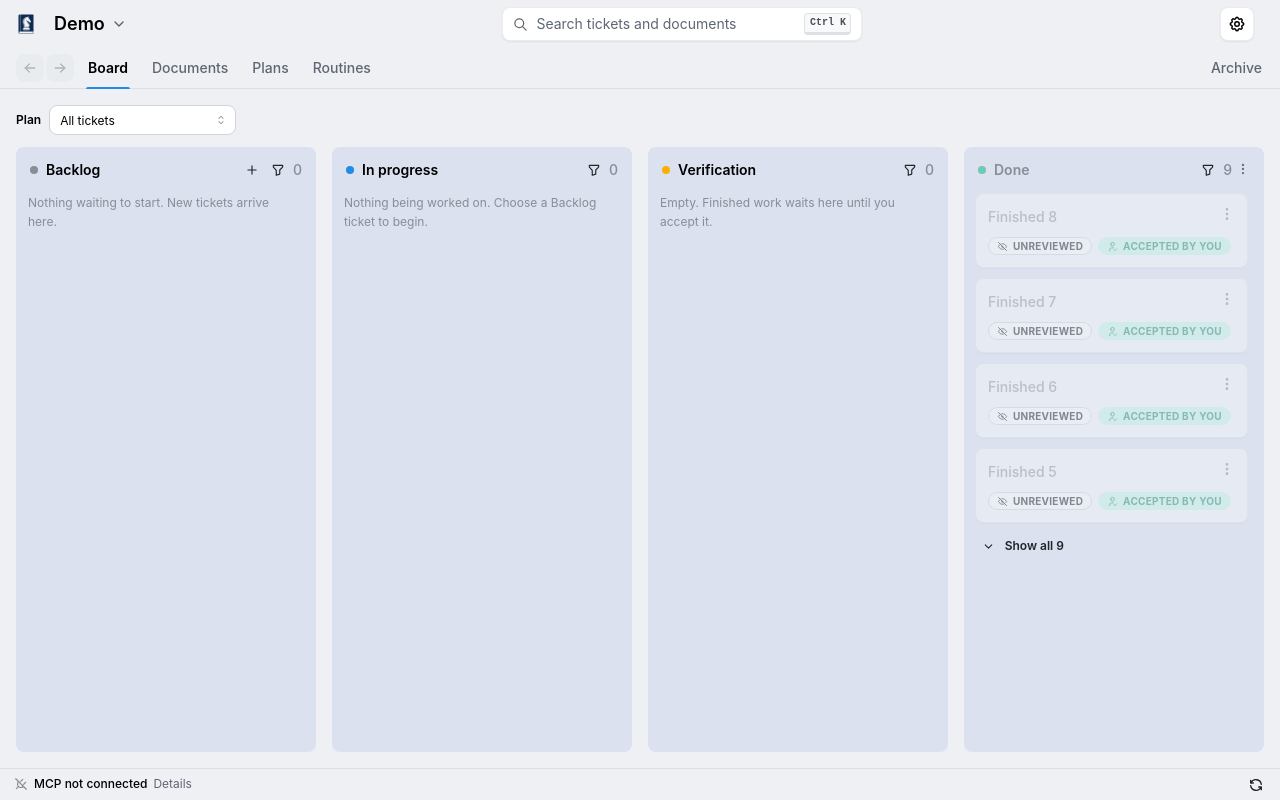
Test case: the Done column on the board › shows the total while collapsed, and reveals the rest when asked
The image size is (1280, 800).
Expected: the text "Finished 8" is shown, [988, 208, 1057, 225]
Expected: the text "Finished 0" is not shown
Click the button "Show all 9": [1034, 546] box [976, 535, 1248, 557]
(page scrolled)
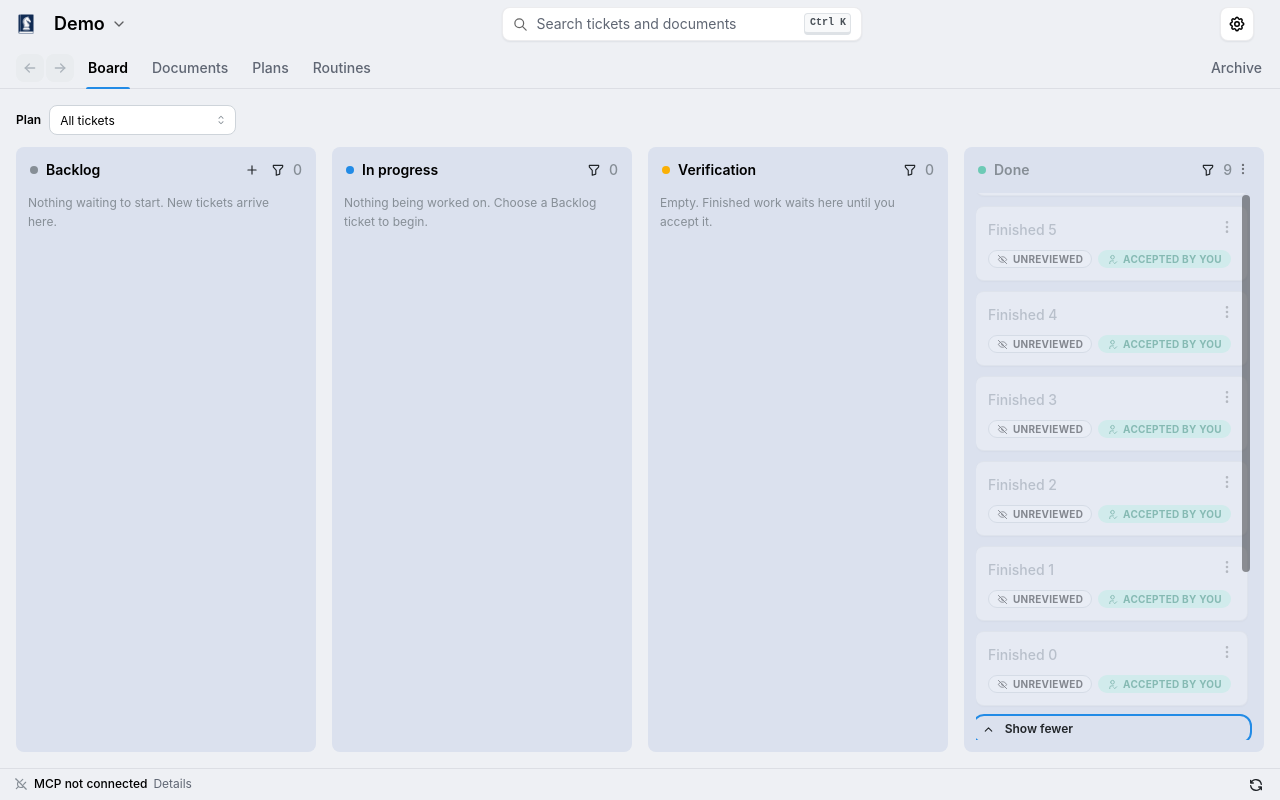
Now the text "Finished 0" is shown, box [988, 646, 1057, 663]
Click the button "Show fewer": [1039, 728] box [976, 718, 1248, 740]
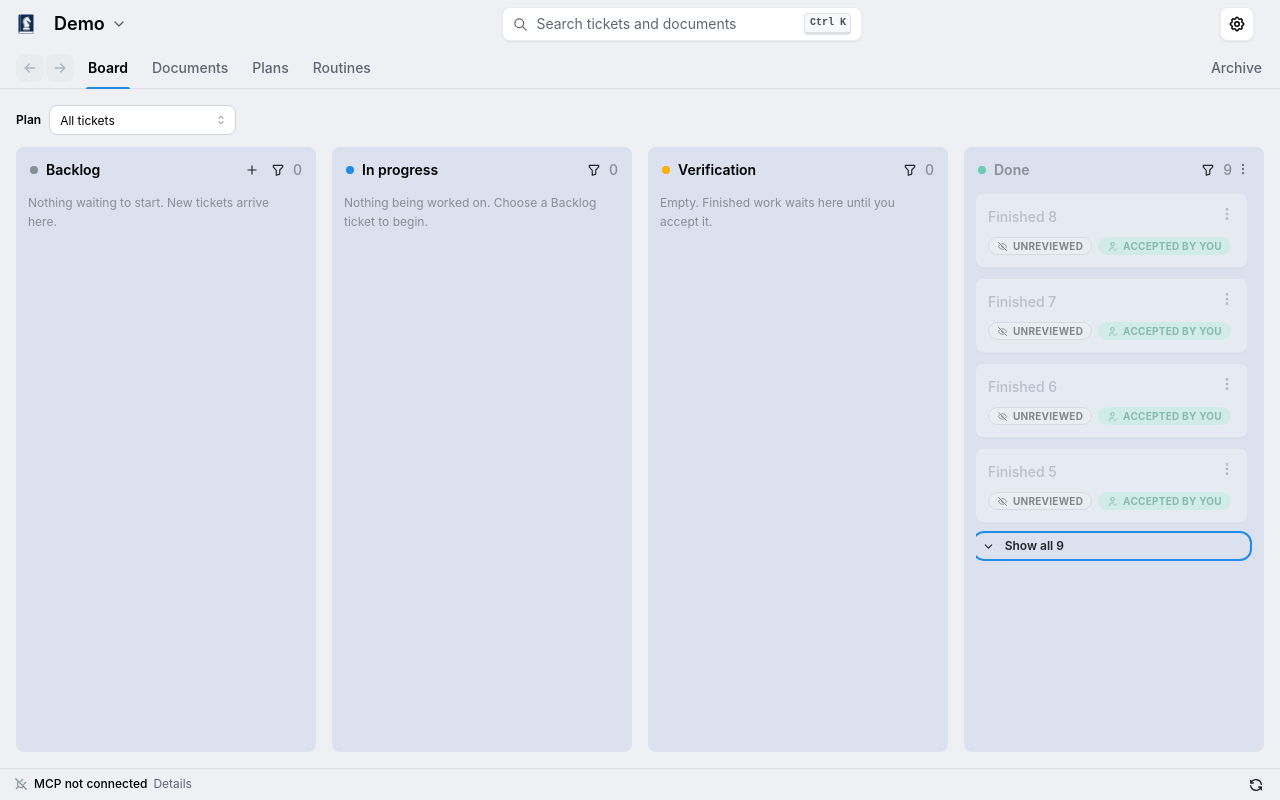
Now the text "Finished 0" is gone
